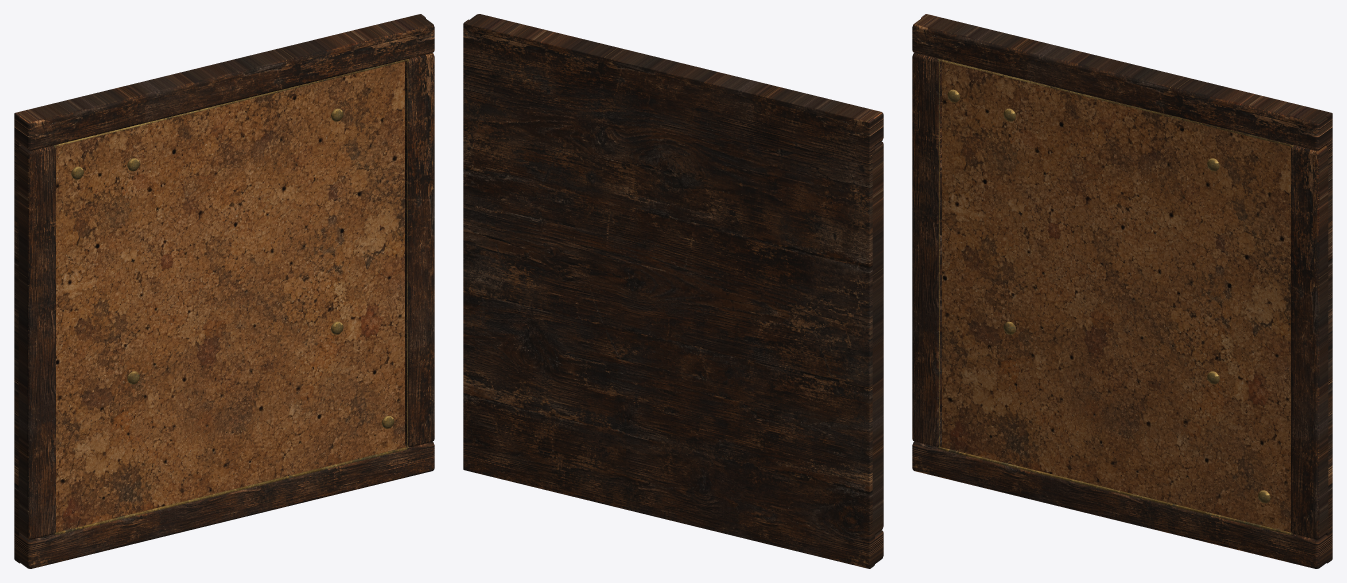
Rendered from pinboard.glb.
The picture shows the model from 3 angles, left to right: view 1: azimuth 30°, elevation 25°; view 2: azimuth 150°, elevation 25°; view 3: azimuth 330°, elevation 25°; orthographic projection.
Visible parts, largest first — view 1: Pinboard_AgedCork, Pinboard_FrameTop, Pinboard_FrameLeft, Pinboard_FrameBottom, Pinboard_FrameRight, Pinboard_Backboard, Pinboard_InsetBottom, Pinboard_InsetTop; view 2: Pinboard_Backboard, Pinboard_FrameTop, Pinboard_FrameLeft; view 3: Pinboard_AgedCork, Pinboard_FrameTop, Pinboard_FrameRight, Pinboard_FrameBottom, Pinboard_FrameLeft, Pinboard_Backboard, Pinboard_InsetBottom, Pinboard_InsetTop.
Boxes of the visible parts, left/top/right/bottom form: Pinboard_AgedCork: left=56, top=61, right=405, bottom=532; Pinboard_FrameTop: left=17, top=16, right=434, bottom=150; Pinboard_FrameLeft: left=16, top=145, right=55, bottom=539; Pinboard_FrameBottom: left=16, top=442, right=434, bottom=568; Pinboard_FrameRight: left=405, top=53, right=434, bottom=447; Pinboard_Backboard: left=14, top=14, right=425, bottom=563; Pinboard_InsetBottom: left=56, top=447, right=407, bottom=534; Pinboard_InsetTop: left=55, top=59, right=407, bottom=146; Pinboard_Backboard: left=463, top=19, right=874, bottom=568; Pinboard_FrameTop: left=469, top=14, right=883, bottom=145; Pinboard_FrameLeft: left=872, top=141, right=883, bottom=534; Pinboard_AgedCork: left=941, top=61, right=1290, bottom=532; Pinboard_FrameTop: left=912, top=16, right=1328, bottom=150; Pinboard_FrameRight: left=1291, top=145, right=1328, bottom=539; Pinboard_FrameBottom: left=912, top=442, right=1328, bottom=568; Pinboard_FrameLeft: left=912, top=53, right=941, bottom=447; Pinboard_Backboard: left=921, top=14, right=1332, bottom=563; Pinboard_InsetBottom: left=939, top=447, right=1290, bottom=534; Pinboard_InsetTop: left=939, top=59, right=1291, bottom=146.
Bounding box in the file's own units: 0.8 × 0.84 × 0.068.
3 materials, 3 textured.
